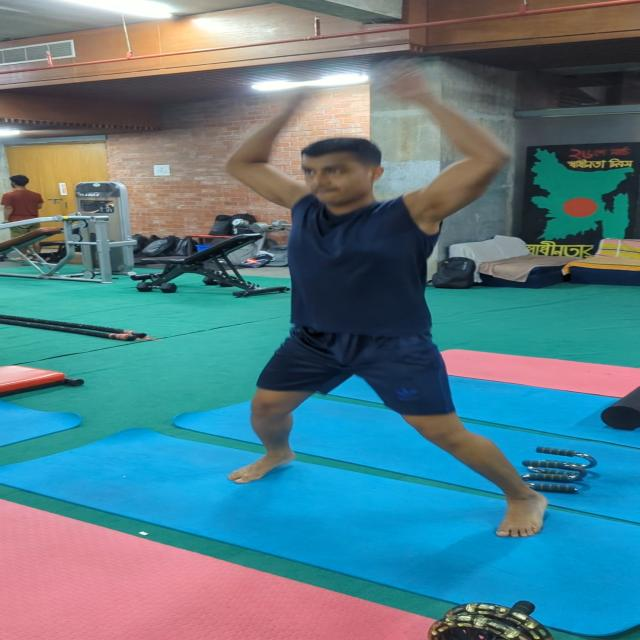Normal_JumpingJacks: (192, 55, 555, 552)
